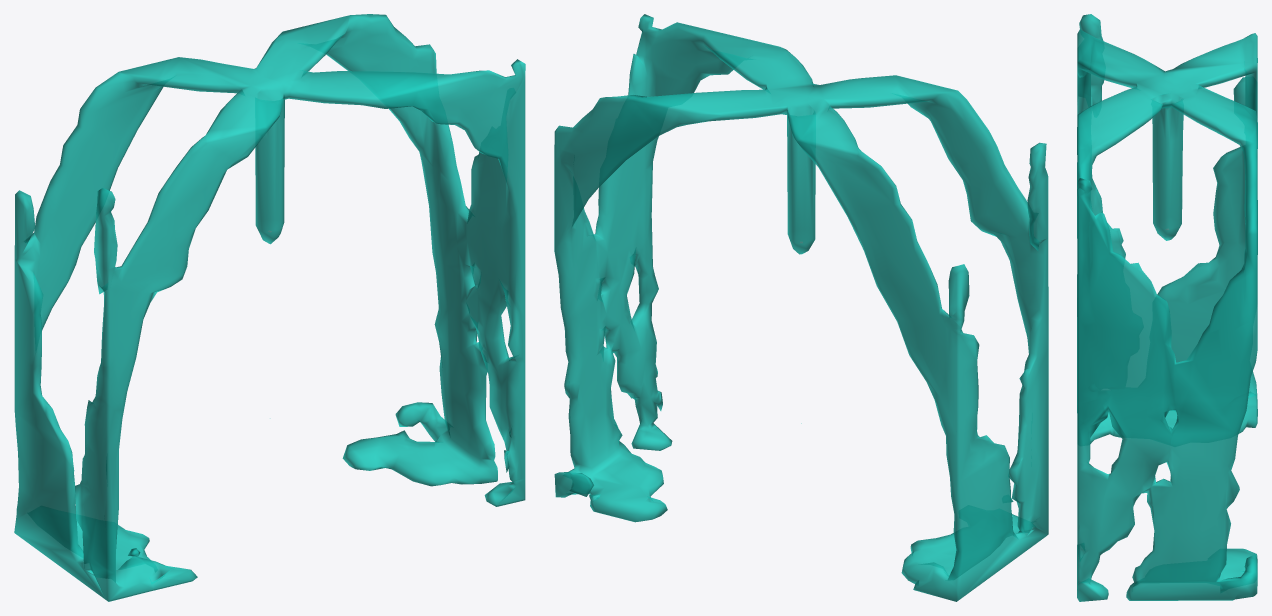
3 renders of one model, left to right at view 1: azimuth 30°, elevation 25°; view 2: azimuth 150°, elevation 25°; view 3: azimuth 270°, elevation 25°, orthographic. The views are drawn at different scales.
Visible parts, largest first — view 1: Liquid_Domain; view 2: Liquid_Domain; view 3: Liquid_Domain.
Boxes of the visible parts, box(x1,y1,x2,y2) form: Liquid_Domain: box(14, 14, 525, 601); Liquid_Domain: box(554, 14, 1048, 601); Liquid_Domain: box(1077, 14, 1257, 601).
Size of the model in its own units: 1966 by 1965 by 766.
